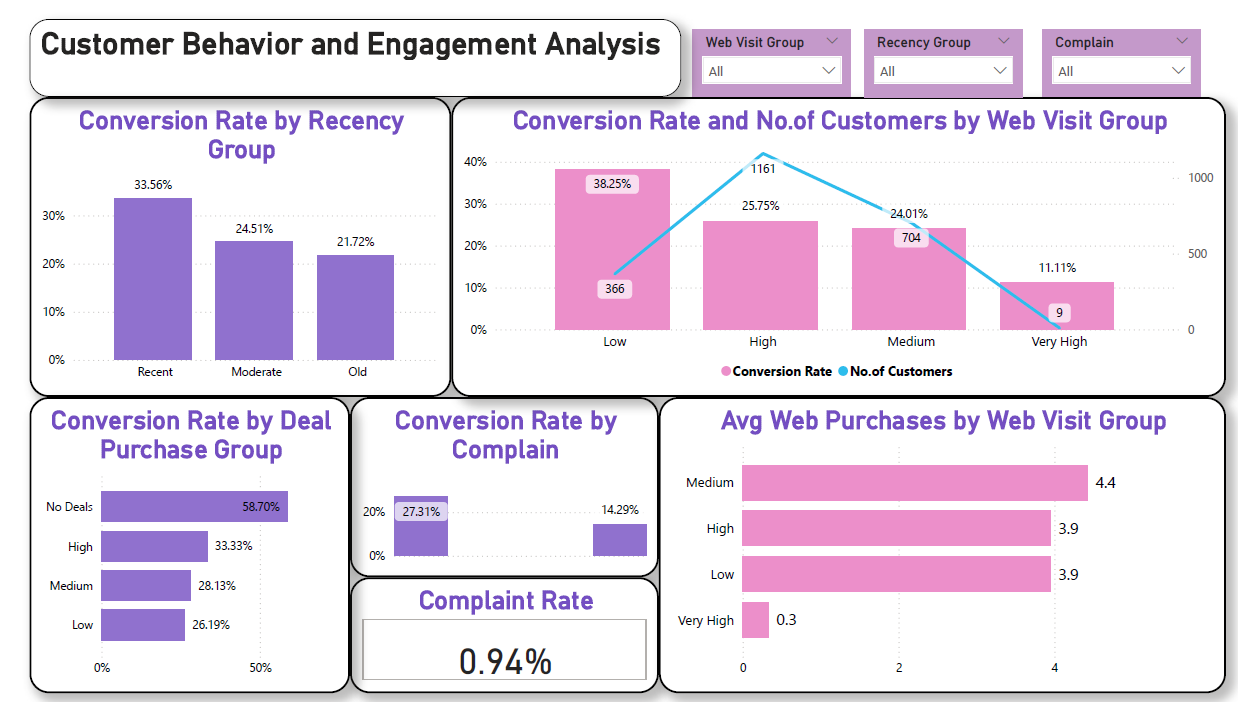

Layout of this report page (visuals, bound fields, positions):
{"tool":"powerbi","page":{"name":"Customer Behavior and Engagement Analysis","canvas":[1280,720],"ordinal":3},"visuals":[{"type":"columnChart","fields":{"Y":["DAX Measure.Conversion Rate"],"Category":["Fact_marketing_data.Recency Group"]},"box":[37.9,96.6,432.8,308.6],"z":0},{"type":"lineClusteredColumnComboChart","fields":{"Category":["Fact_marketing_data.Complain"],"Y":["DAX Measure.Conversion Rate"]},"box":[367.2,405.2,317.2,184.5],"z":1000},{"type":"cardVisual","title":"Complaint Rate","fields":{"Data":["DAX Measure.Complaint Rate"]},"box":[367.2,589.7,317.2,119],"z":2000},{"type":"lineStackedColumnComboChart","fields":{"Category":["Fact_marketing_data.Web Visit Group"],"Y":["DAX Measure.Conversion Rate"],"Y2":["DAX Measure.No.of Customers"]},"box":[470.7,96.6,794.8,308.6],"z":3000},{"type":"barChart","fields":{"Category":["Fact_marketing_data.Web Visit Group"],"Y":["DAX Measure.Avg Web Purchases"]},"box":[684.5,405.2,581,303.4],"z":4000},{"type":"slicer","fields":{"Values":["Fact_marketing_data.Web Visit Group"]},"box":[719,27.6,162.1,69],"z":5000},{"type":"slicer","fields":{"Values":["Fact_marketing_data.Complain"]},"box":[1077.6,27.6,162.1,69],"z":6000},{"type":"slicer","fields":{"Values":["Fact_marketing_data.Recency Group"]},"box":[894.8,27.6,162.1,70.7],"z":7000},{"type":"textbox","title":"Customer Behavior and Engagement Analysis","box":[37.9,17.2,669,79.3],"z":8000},{"type":"barChart","fields":{"Category":["Fact_marketing_data.Deal Purchase Group"],"Y":["DAX Measure.Conversion Rate"]},"box":[37.9,405.2,329.3,303.4],"z":8001}]}

Visuals, with their boxes in screenshot pixels (x1, y1, x2, y2), scaled from the page's 1280x720 canvas onto the 1238x702 screenshot:
columnChart - DAX Measure.Conversion Rate x Fact_marketing_data.Recency Group: pyautogui.locateOnScreen(37, 94, 455, 395)
lineClusteredColumnComboChart - Fact_marketing_data.Complain x DAX Measure.Conversion Rate: pyautogui.locateOnScreen(355, 395, 662, 575)
"Complaint Rate" cardVisual: pyautogui.locateOnScreen(355, 575, 662, 691)
lineStackedColumnComboChart - Fact_marketing_data.Web Visit Group x DAX Measure.Conversion Rate: pyautogui.locateOnScreen(455, 94, 1224, 395)
barChart - Fact_marketing_data.Web Visit Group x DAX Measure.Avg Web Purchases: pyautogui.locateOnScreen(662, 395, 1224, 691)
slicer - Fact_marketing_data.Web Visit Group: pyautogui.locateOnScreen(695, 27, 852, 94)
slicer - Fact_marketing_data.Complain: pyautogui.locateOnScreen(1042, 27, 1199, 94)
slicer - Fact_marketing_data.Recency Group: pyautogui.locateOnScreen(865, 27, 1022, 96)
"Customer Behavior and Engagement Analysis" textbox: pyautogui.locateOnScreen(37, 17, 684, 94)
barChart - Fact_marketing_data.Deal Purchase Group x DAX Measure.Conversion Rate: pyautogui.locateOnScreen(37, 395, 355, 691)
